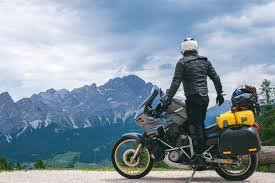motor: (112, 95, 272, 179)
